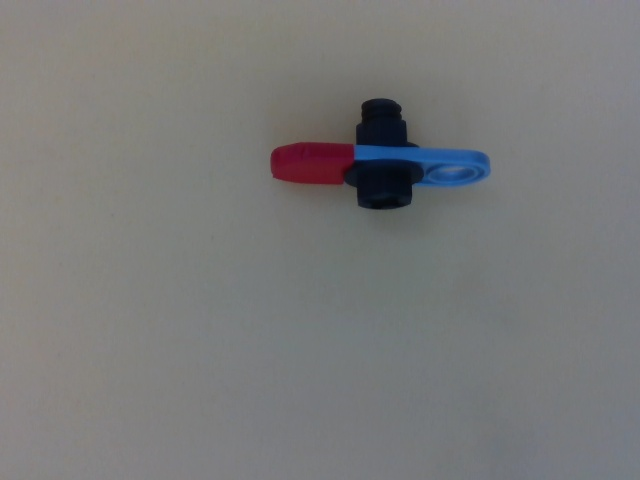part_1_good: (264, 92, 495, 214)
